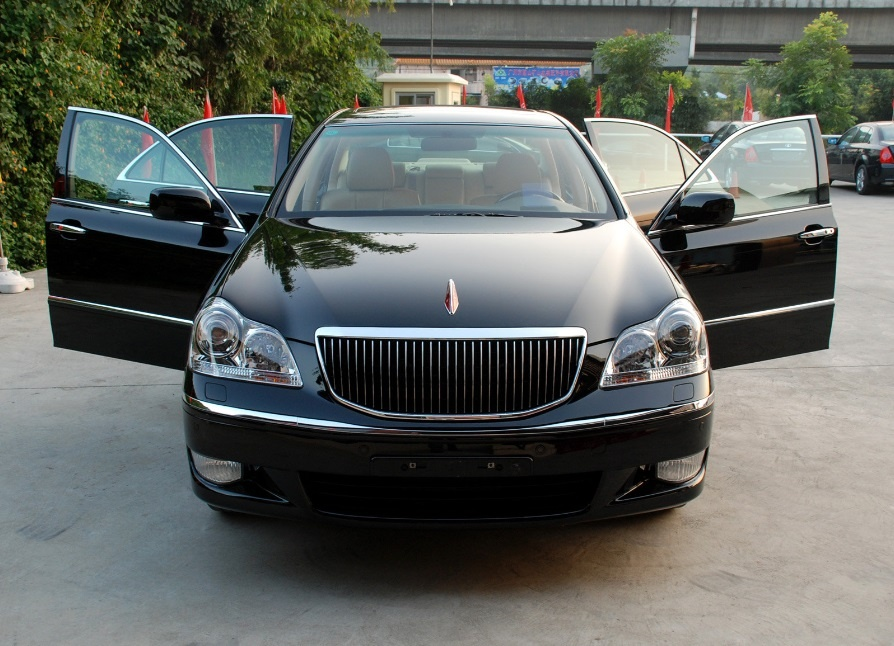family sedan: (165, 80, 739, 540)
